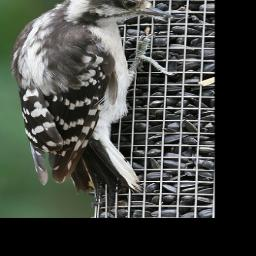Woodpecker: (11, 0, 177, 200)
